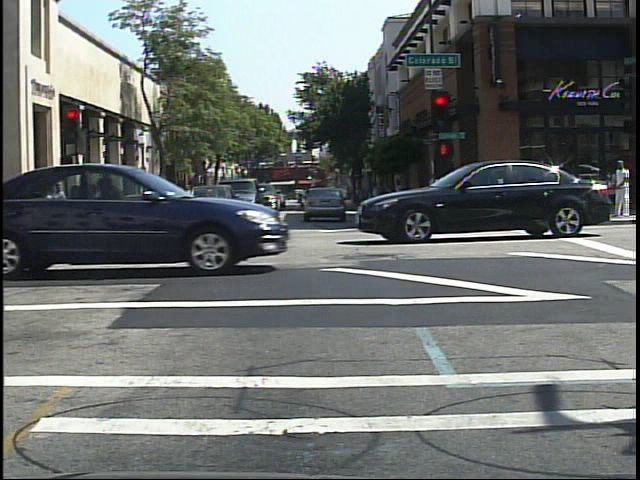person: (610, 156, 636, 221)
